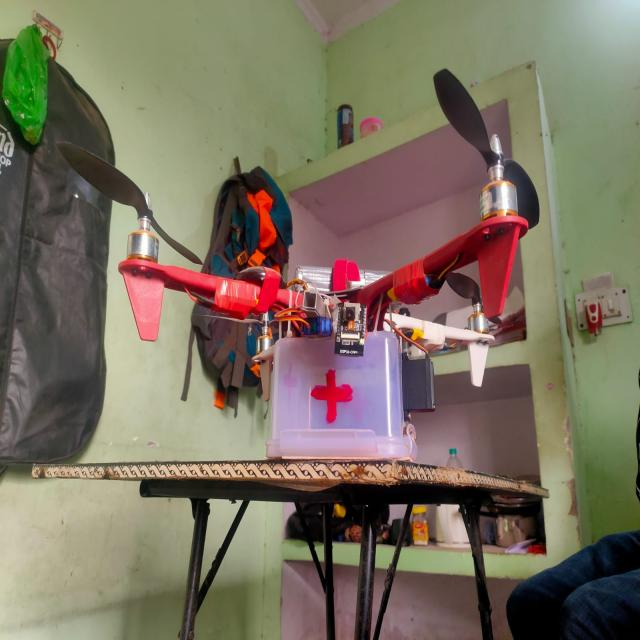Drone THREAT: (76, 130, 550, 473)
